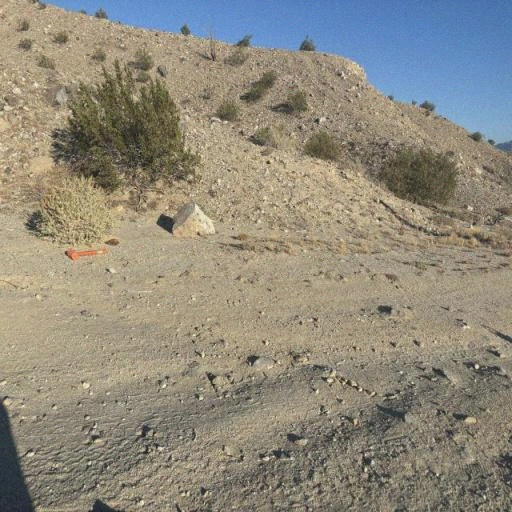mallet: (63, 244, 111, 263)
